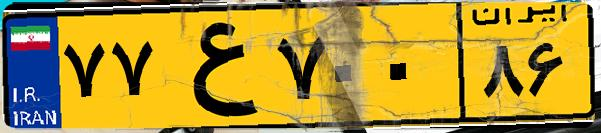0: (385, 28, 445, 110), (330, 28, 385, 110)
6: (525, 38, 570, 115)
7: (270, 28, 330, 110), (57, 26, 110, 100), (110, 28, 158, 98)
8: (475, 38, 525, 113)
ع: (158, 12, 270, 120)
